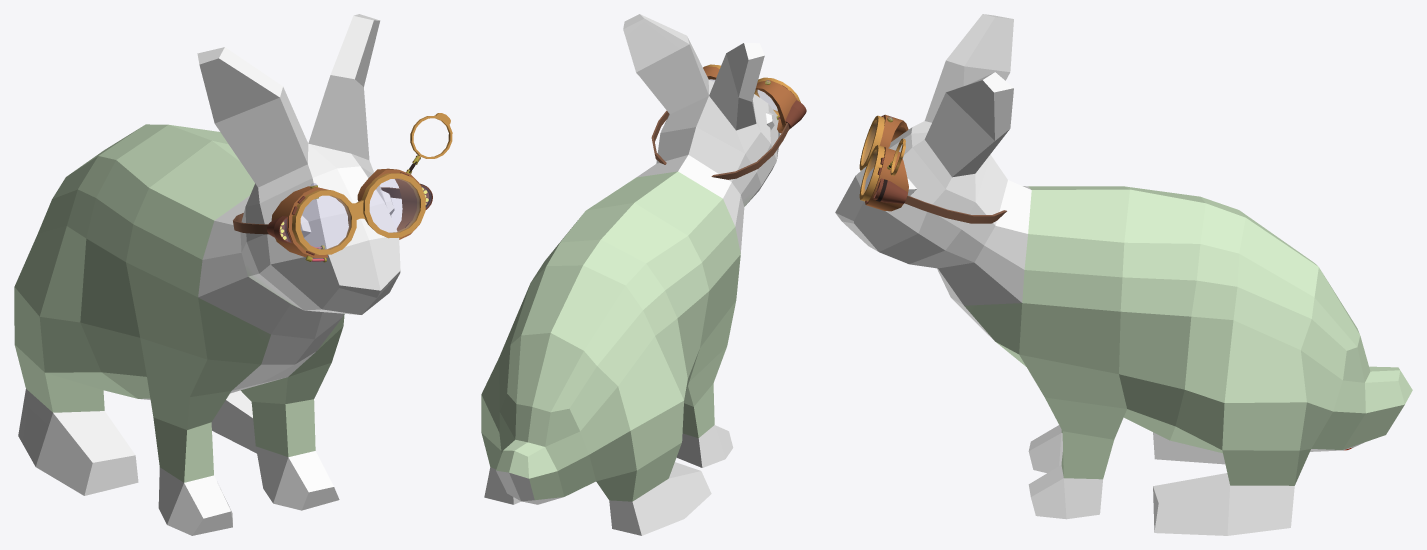
Rendered from pilot.gltf.
3 views of the same model, side by side, from view 1: azimuth 30°, elevation 25°; view 2: azimuth 150°, elevation 25°; view 3: azimuth 270°, elevation 25° (orthographic). The views are drawn at different scales.
Parts seen in each view (by area): view 1: Object_9, Object_21, Object_17, Object_19, Object_25, Object_46, Object_50; view 2: Object_9, Object_19, Object_25; view 3: Object_9, Object_19, Object_17, Object_25.
Boxes of the visible parts, x1=… form: Object_9: x1=14, y1=14, x2=400, y2=535; Object_21: x1=301, y1=179, x2=419, y2=249; Object_17: x1=292, y1=173, x2=425, y2=254; Object_19: x1=271, y1=168, x2=420, y2=257; Object_25: x1=233, y1=187, x2=401, y2=234; Object_46: x1=267, y1=184, x2=432, y2=243; Object_50: x1=410, y1=113, x2=452, y2=158; Object_9: x1=481, y1=14, x2=780, y2=535; Object_19: x1=703, y1=66, x2=797, y2=133; Object_25: x1=651, y1=110, x2=789, y2=179; Object_9: x1=835, y1=14, x2=1412, y2=535; Object_19: x1=865, y1=114, x2=908, y2=211; Object_17: x1=859, y1=115, x2=884, y2=201; Object_25: x1=905, y1=195, x2=1006, y2=223.
Bounding box in the file's own units: 2.81 × 5.62 × 6.68.
